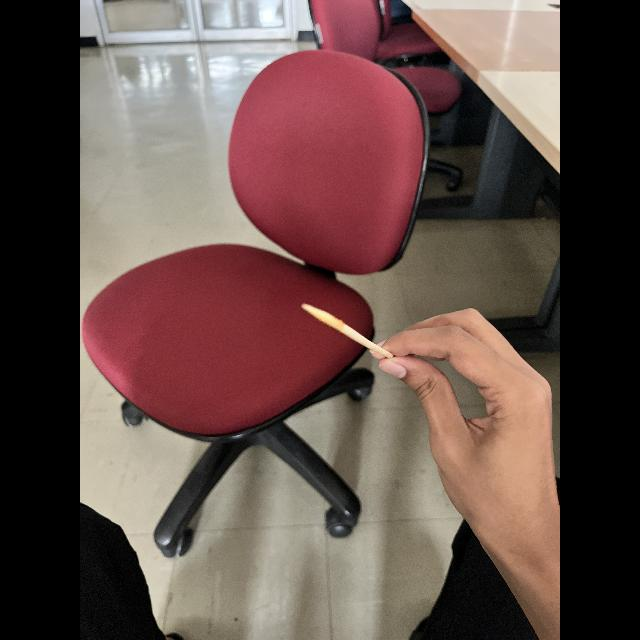stick: (302, 306, 388, 358)
